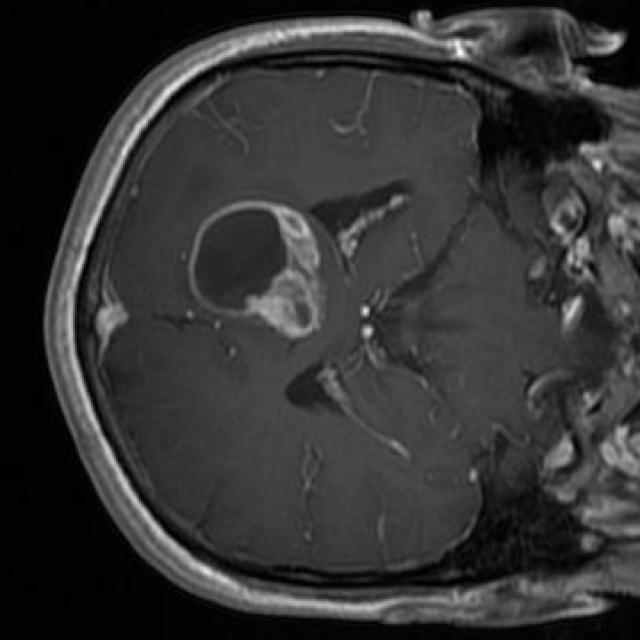glioma: (187, 200, 324, 339)
